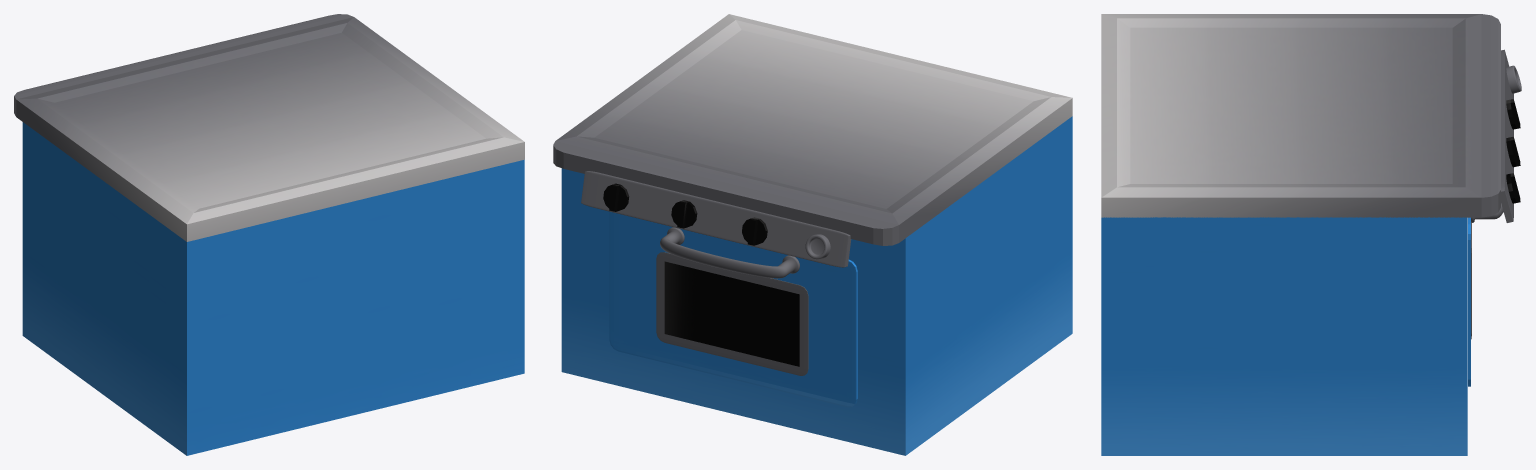
File: Oven.glb
The picture shows the model from 3 angles, left to right: view 1: azimuth 30°, elevation 25°; view 2: azimuth 150°, elevation 25°; view 3: azimuth 270°, elevation 25°; orthographic projection. The views are drawn at different scales.
Visible parts, largest first — view 1: Oven; view 2: Oven; view 3: Oven.
Part boxes in pixels (x1,y1,x2,y2): Oven: (14,14,524,455); Oven: (553,14,1072,455); Oven: (1101,14,1521,455).
Bounding box in the file's own units: 0.9991 × 0.662 × 0.9659.
1 material, 1 textured.
